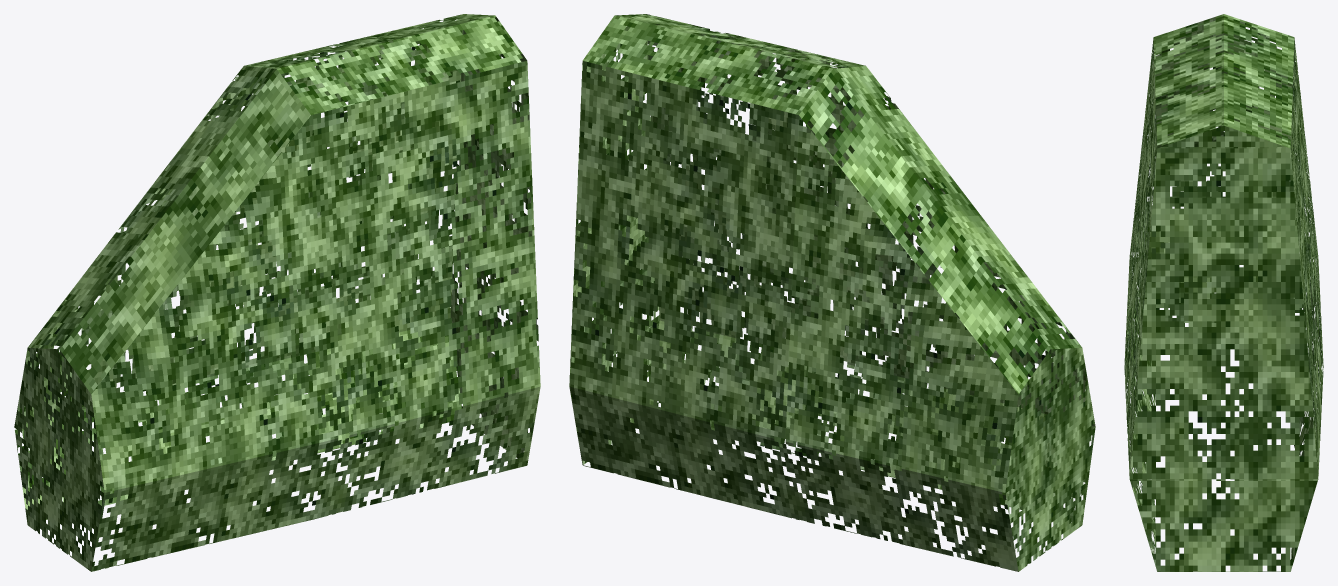
File: bush_connector_summer.glb
3 views of the same model, side by side, from view 1: azimuth 30°, elevation 25°; view 2: azimuth 150°, elevation 25°; view 3: azimuth 270°, elevation 25° (orthographic). The views are drawn at different scales.
Visible parts, largest first — view 1: bush_connector_summer; view 2: bush_connector_summer; view 3: bush_connector_summer.
Boxes of the visible parts, left/top/right/bottom form: bush_connector_summer: left=14, top=14, right=540, bottom=571; bush_connector_summer: left=569, top=14, right=1095, bottom=571; bush_connector_summer: left=1124, top=14, right=1323, bottom=571.
Bounding box in the file's own units: 2.01 × 1.88 × 0.7592.
1 material, 1 textured.
